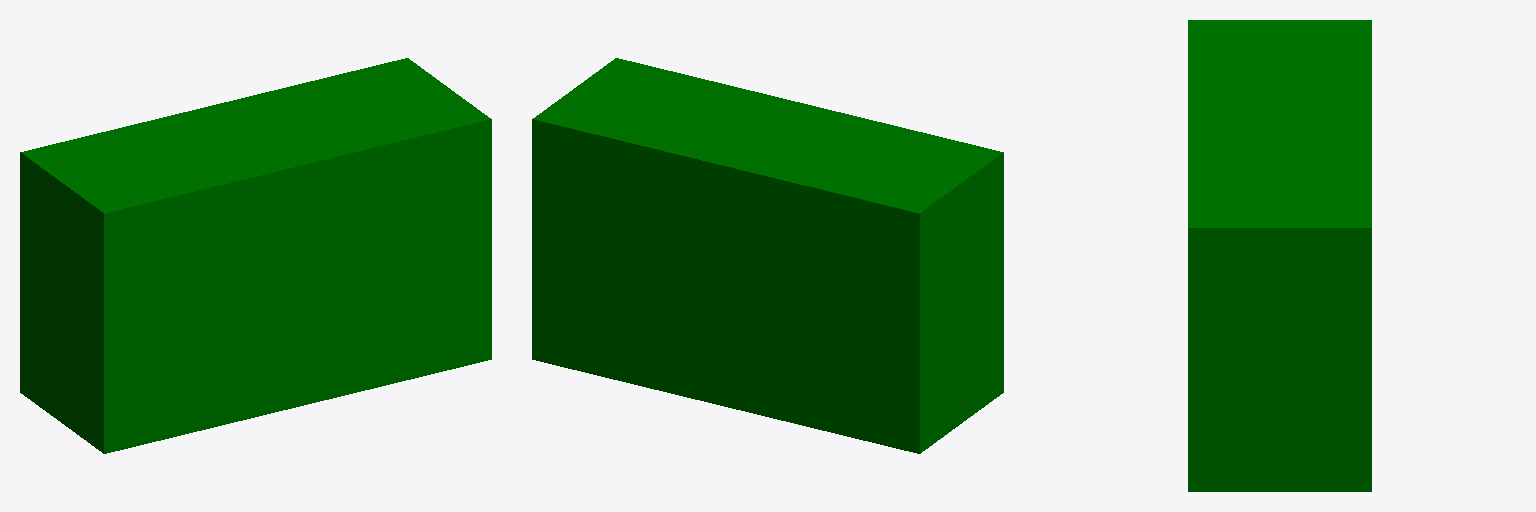
The robot description file, URDF, robot "box.urdf":
<?xml version="0.0" ?>
<robot name="box.urdf">
  <link name="baseLink">
    <contact>
      <lateral_friction value="0.5"/>
      <rolling_friction value="0.0"/>
      <contact_cfm value="0.0"/>
      <contact_erp value="1.0"/>
    </contact>
    <inertial>
      <origin rpy="0 0 0" xyz="0 0 0"/>
       <mass value=".01"/>
       <inertia ixx="1" ixy="0" ixz="0" iyy="1" iyz="0" izz="1"/>
    </inertial>
    <visual>
      <origin rpy="0 0 0" xyz="0 0 0"/>
      <geometry>
				<mesh filename="box.obj" scale="0.16 0.06 0.095"/>
      </geometry>
       <material name="white">
        <color rgba="0 0.5 0 1"/>
      </material>
    </visual>
    <collision>
      <origin rpy="0 0 0" xyz="0 0 0"/>
      <geometry>
	 	<box size="0.16 0.06 0.095"/>
      </geometry>
    </collision>
  </link>
</robot>

--- Facts derived from the render (not from the file) ---
Views: 3 orthographic renders of the robot side by side, from view 1: azimuth 30°, elevation 25°; view 2: azimuth 150°, elevation 25°; view 3: azimuth 270°, elevation 25°.
Robot: box.urdf — 1 links, 0 joints (none); root link baseLink; default pose: all joints at 0.
Visible links, largest first — view 1: baseLink; view 2: baseLink; view 3: baseLink.
Boxes of the visible links, bbox=[...] form: baseLink: bbox=[20, 58, 491, 453]; baseLink: bbox=[532, 58, 1003, 453]; baseLink: bbox=[1188, 20, 1371, 491].
Bounding box of the posed robot: 0.16 × 0.06 × 0.095 m (x, y, z).
Meshes: 1 distinct files referenced, 1 mesh visuals loaded (1 OBJ).